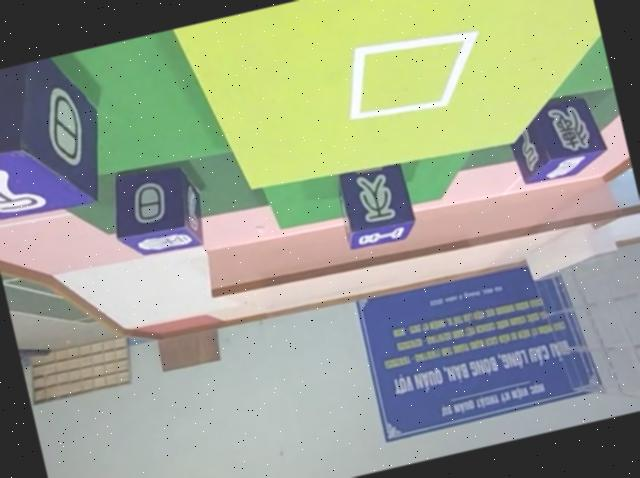R2 Fake Blue: (0, 48, 119, 228), (98, 154, 207, 262), (497, 87, 608, 186), (331, 158, 420, 252)
